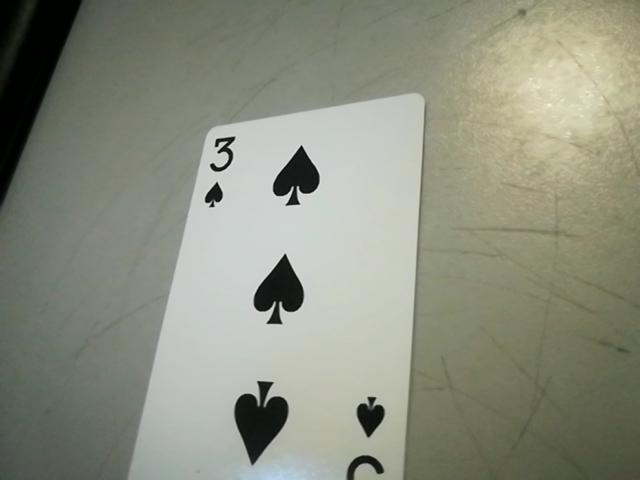ht 3: (192, 129, 246, 216)
